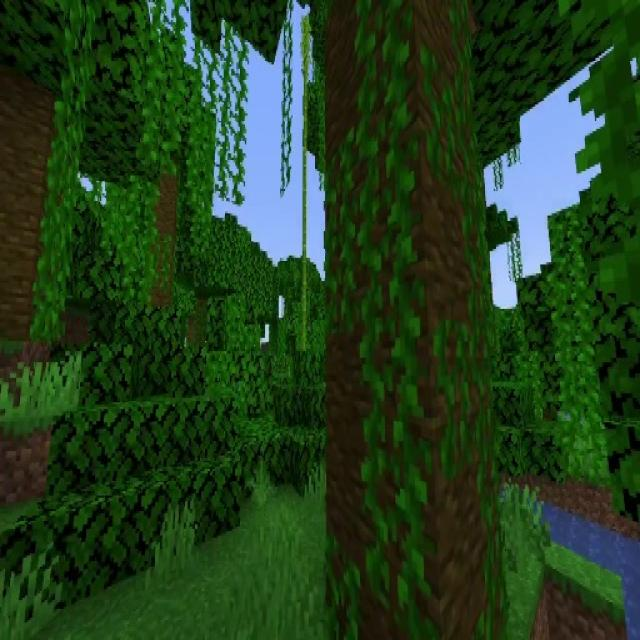jungle: (116, 62, 219, 307)
jungle_log: (326, 0, 507, 640), (0, 65, 68, 333), (153, 174, 176, 310)
